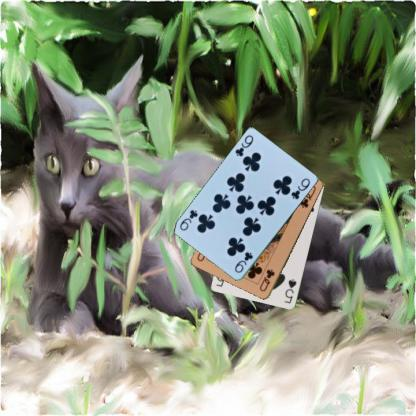5s: (282, 276, 298, 305)
9c: (232, 132, 255, 158), (232, 250, 254, 274)
Qc: (257, 267, 276, 293)
